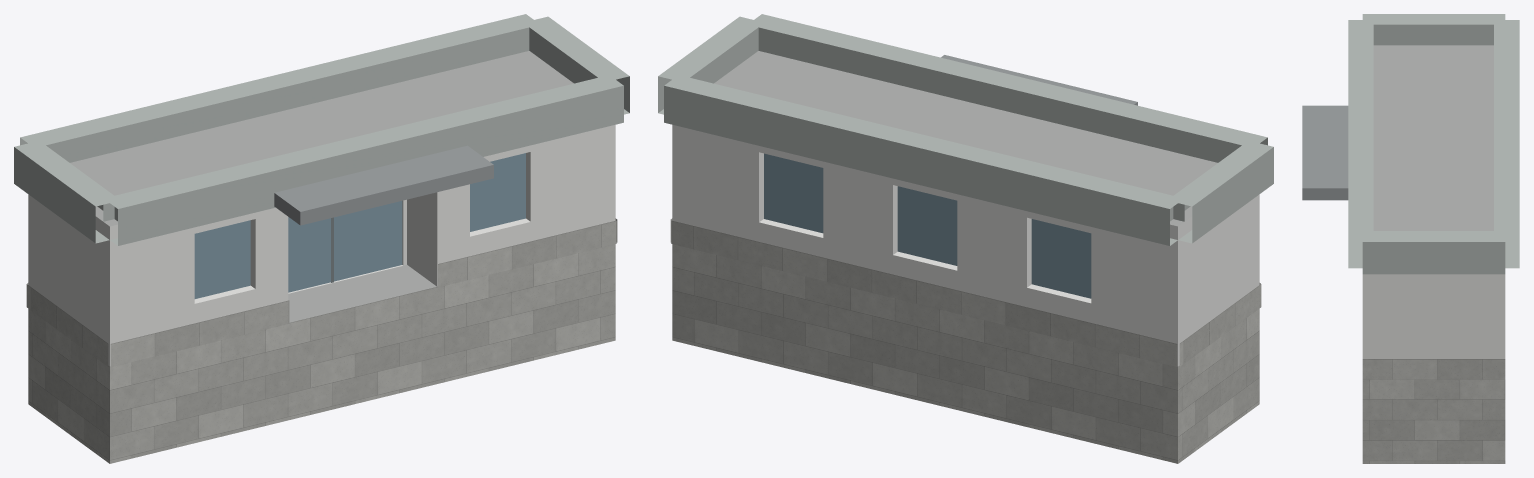
3 renders of one model, left to right at view 1: azimuth 30°, elevation 25°; view 2: azimuth 150°, elevation 25°; view 3: azimuth 270°, elevation 25°, orthographic. The views are drawn at different scales.
Visible parts, largest first — view 1: outdoorTheaterAnnexW9__base, outdoorTheaterAnnexW9__trim, outdoorTheaterAnnexW9__wall, outdoorTheaterAnnexW9__roof, outdoorTheaterAnnexW9__glass, outdoorTheaterAnnexW9__canopy; view 2: outdoorTheaterAnnexW9__base, outdoorTheaterAnnexW9__trim, outdoorTheaterAnnexW9__wall, outdoorTheaterAnnexW9__roof, outdoorTheaterAnnexW9__glass, outdoorTheaterAnnexW9__canopy; view 3: outdoorTheaterAnnexW9__roof, outdoorTheaterAnnexW9__trim, outdoorTheaterAnnexW9__base, outdoorTheaterAnnexW9__wall, outdoorTheaterAnnexW9__canopy.
Boxes of the visible parts, <box> form: outdoorTheaterAnnexW9__base: <box>26,218,617,463</box>; outdoorTheaterAnnexW9__trim: <box>14,14,629,245</box>; outdoorTheaterAnnexW9__wall: <box>28,124,615,366</box>; outdoorTheaterAnnexW9__roof: <box>70,51,573,322</box>; outdoorTheaterAnnexW9__glass: <box>194,153,525,298</box>; outdoorTheaterAnnexW9__canopy: <box>274,145,493,225</box>; outdoorTheaterAnnexW9__base: <box>670,218,1261,463</box>; outdoorTheaterAnnexW9__trim: <box>658,14,1273,245</box>; outdoorTheaterAnnexW9__wall: <box>672,124,1259,366</box>; outdoorTheaterAnnexW9__roof: <box>714,51,1217,226</box>; outdoorTheaterAnnexW9__glass: <box>764,153,1091,298</box>; outdoorTheaterAnnexW9__canopy: <box>941,55,1137,105</box>; outdoorTheaterAnnexW9__roof: <box>1373,45,1493,230</box>; outdoorTheaterAnnexW9__trim: <box>1348,14,1519,274</box>; outdoorTheaterAnnexW9__base: <box>1362,359,1505,463</box>; outdoorTheaterAnnexW9__wall: <box>1362,274,1505,358</box>; outdoorTheaterAnnexW9__canopy: <box>1302,105,1348,200</box>.
Bounding box in the file's own units: 14.36 × 6.7 × 5.78.
8 materials, 1 textured.
